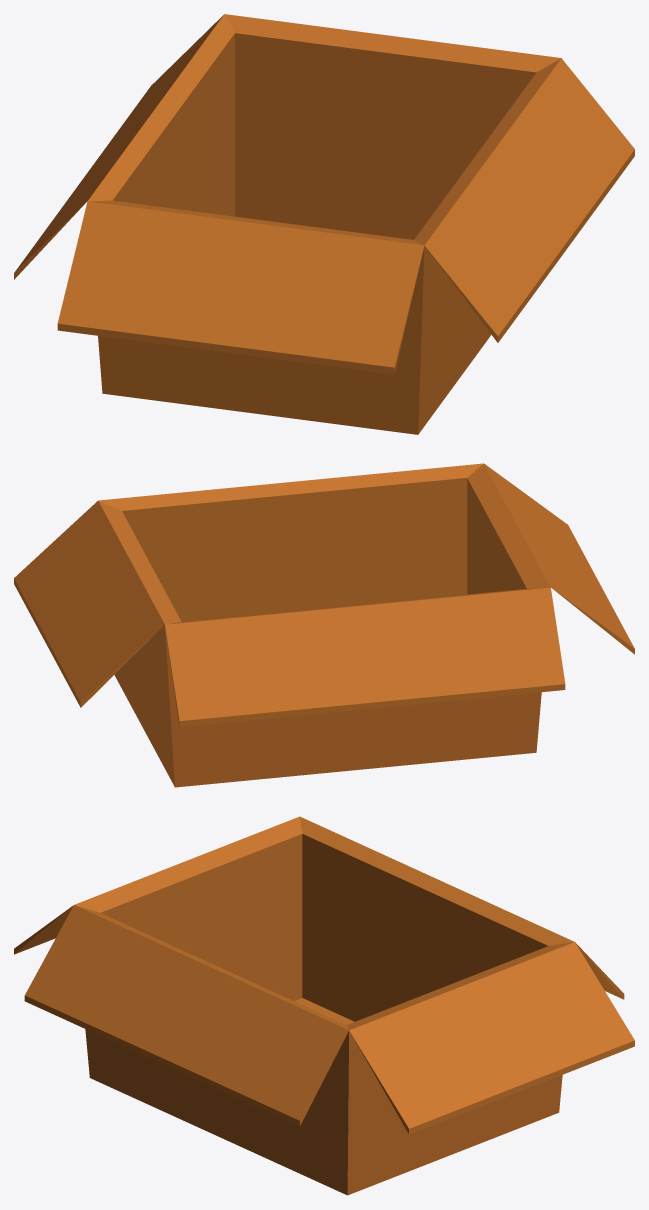
The model's file is Kardus.fbx.
3 views of the same model, one above another, from view 1: azimuth 30°, elevation 25°; view 2: azimuth 150°, elevation 25°; view 3: azimuth 270°, elevation 25° (orthographic). The views are drawn at different scales.
Visible parts, largest first — view 1: kotak.001; view 2: kotak.001; view 3: kotak.001.
Part boxes in pixels (box(x1,y1,x2,y2)): kotak.001: box(14, 14, 634, 434); kotak.001: box(14, 463, 634, 787); kotak.001: box(14, 816, 634, 1195).
Bounding box in the file's own units: 760 × 227 × 742.
